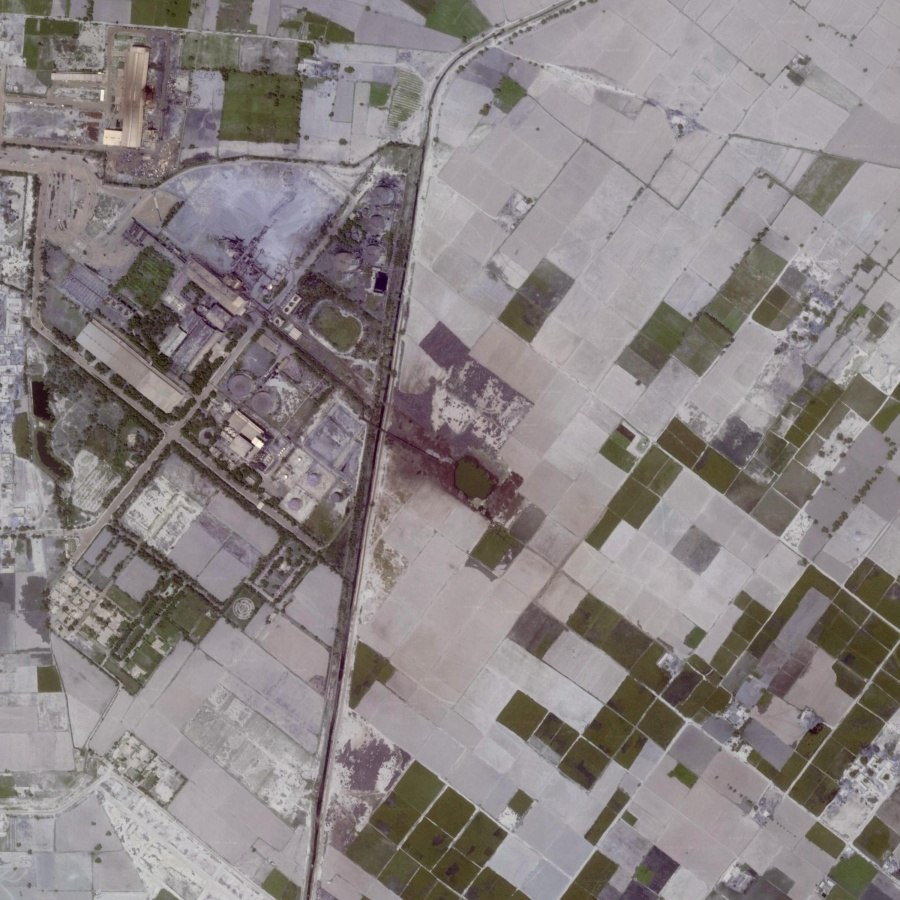PowerPlant: (174, 301, 364, 519)
